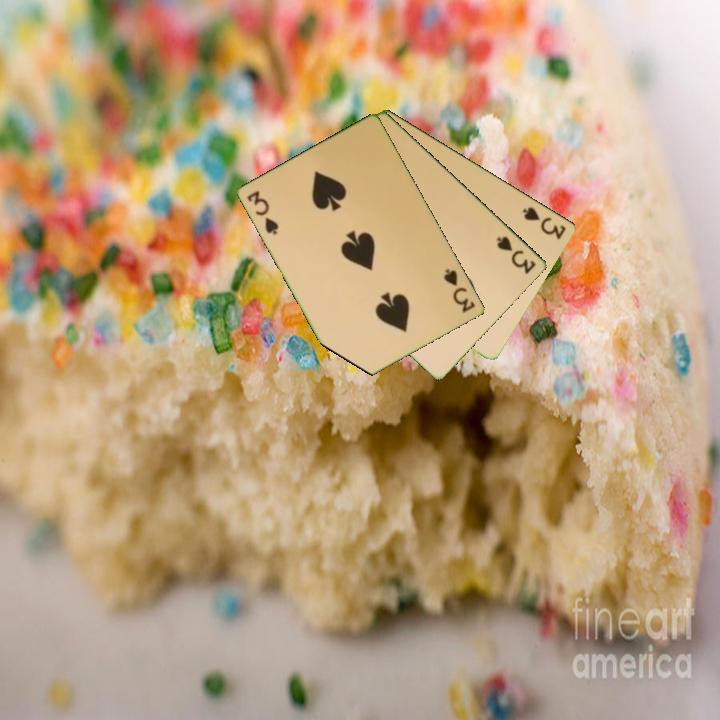3s: (493, 233, 539, 277), (519, 203, 569, 242), (440, 265, 478, 316), (244, 187, 282, 238)
